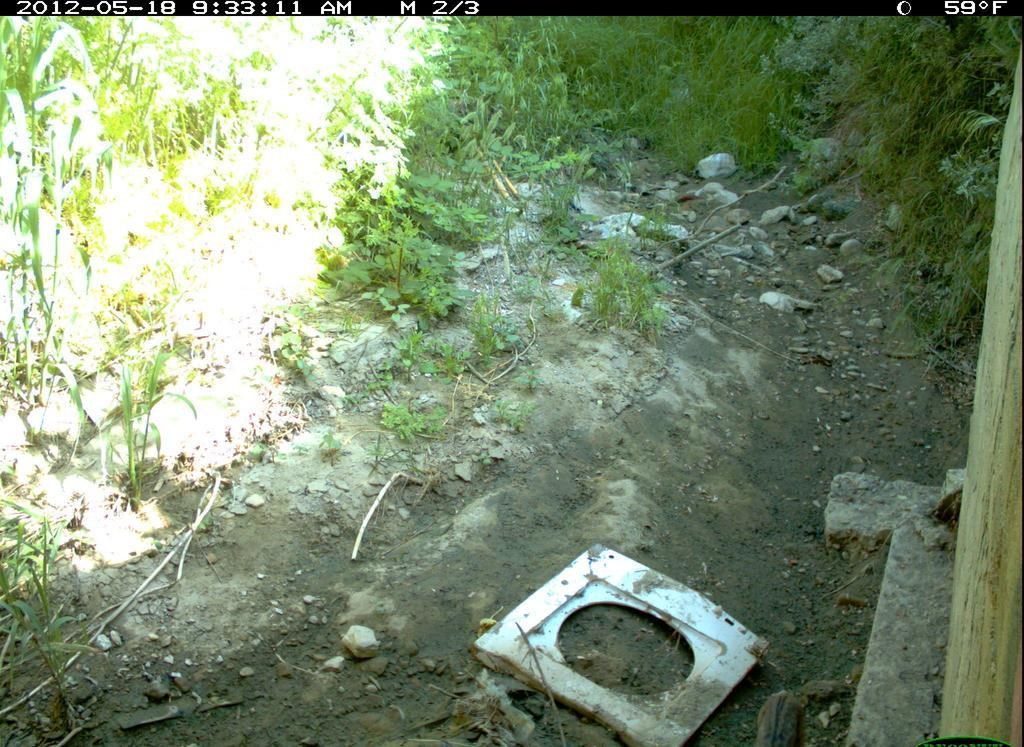bobcat: (750, 686, 809, 747)
